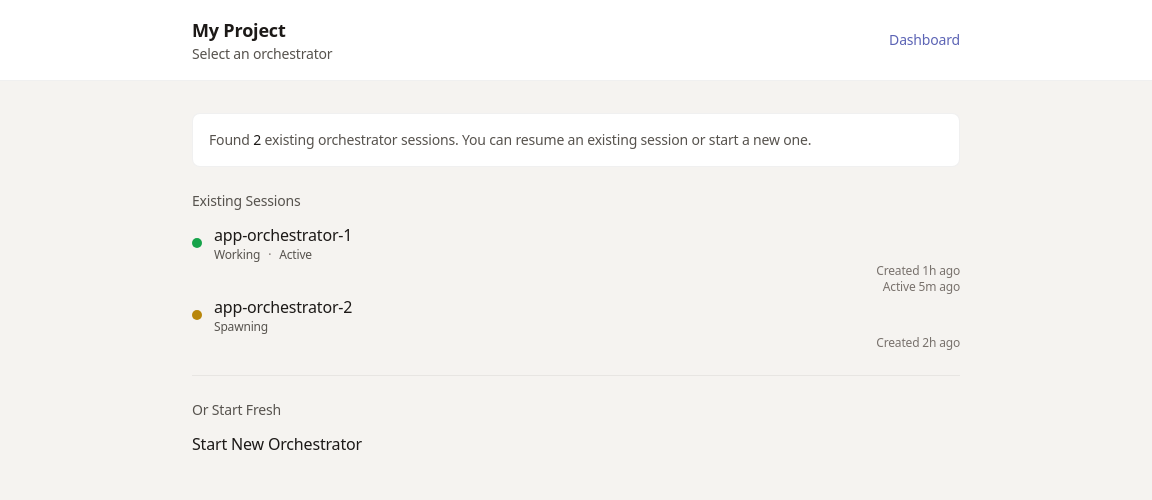
Test: OrchestratorSelector › shows error when spawn fails
This screenshot has width=1152, height=500.
What coordinates should you click on to do the following:
click the button "Start New Orchestrator"
I would click on:
 (277, 444)
Its box is [192, 432, 362, 456].
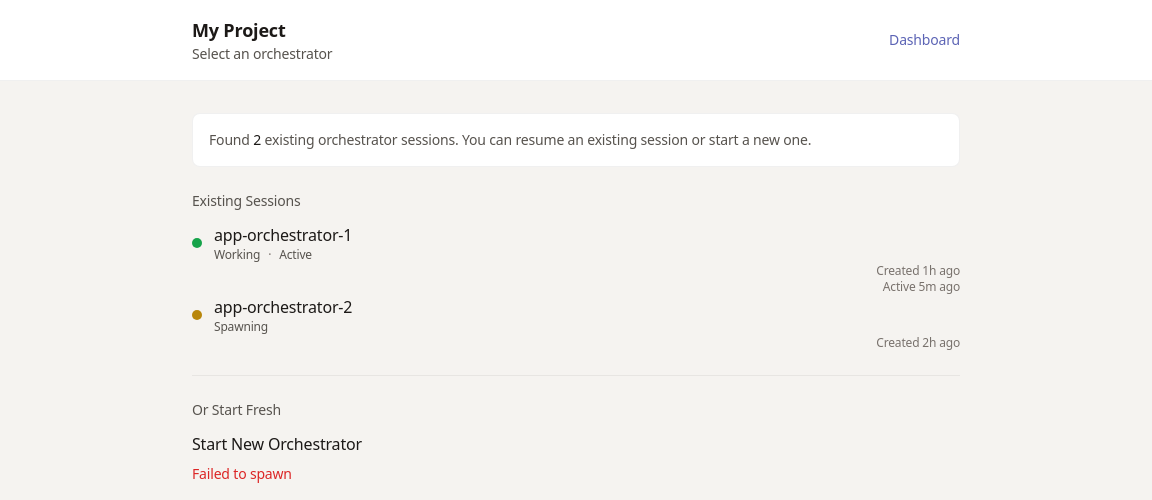
Check: the text "Failed to spawn" is shown, box [192, 464, 292, 483]
